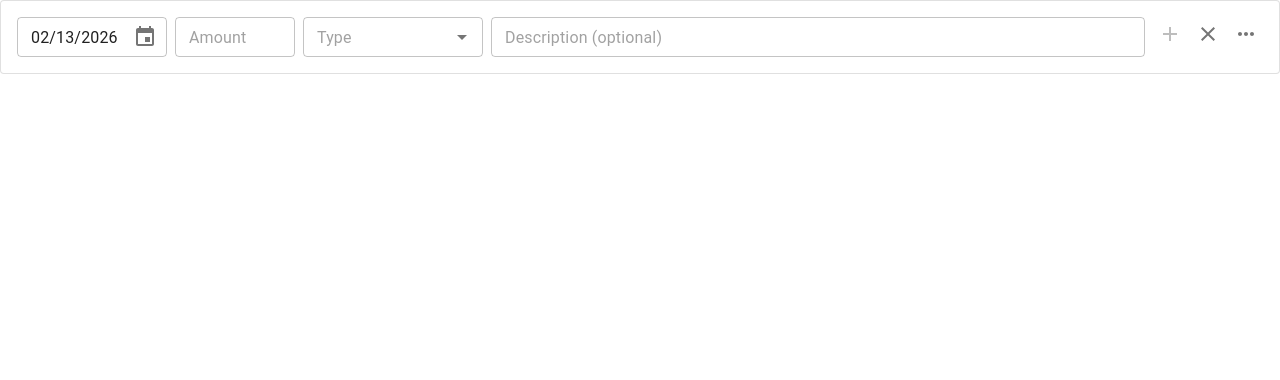
Test: QuickEntryRow › Default Account Fields › should show disabled account fields when transaction type has defaults
Select transaction type with defaults
Click the dropdown with placeholder "Type" at (376, 37), box [309,23,444,51]
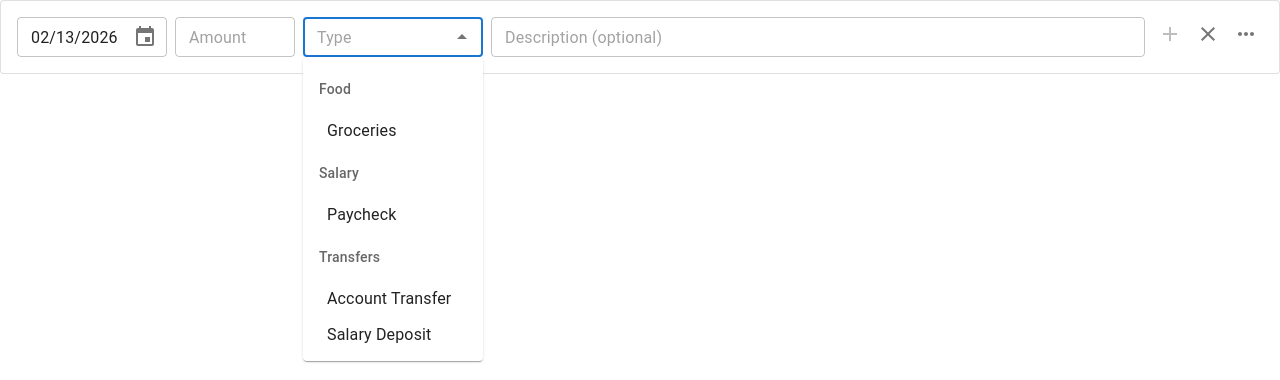
Click the option "Salary Deposit" at (379, 334), box [327,325,432,344]
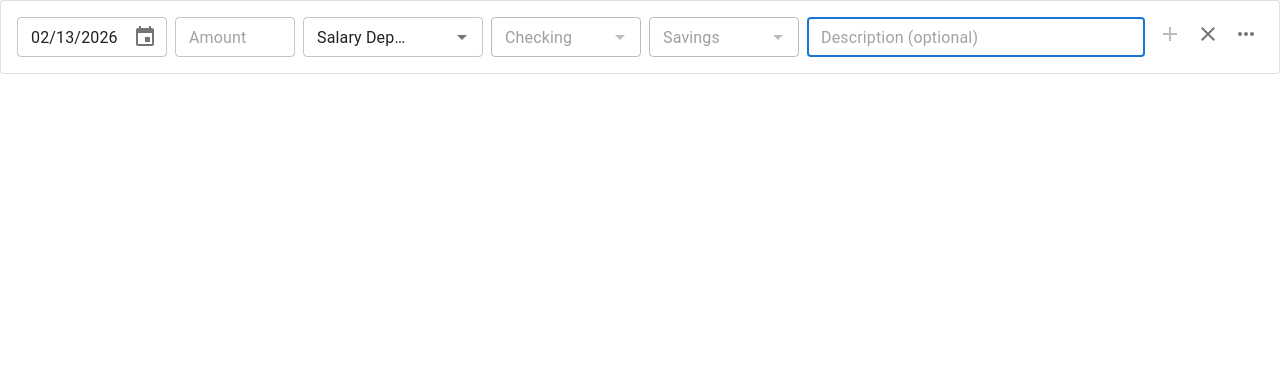
Now the 2nd dropdown with placeholder "From" is shown, box [497,23,602,51]
Now the 3rd dropdown with placeholder "To" is shown, box [655,23,760,51]
